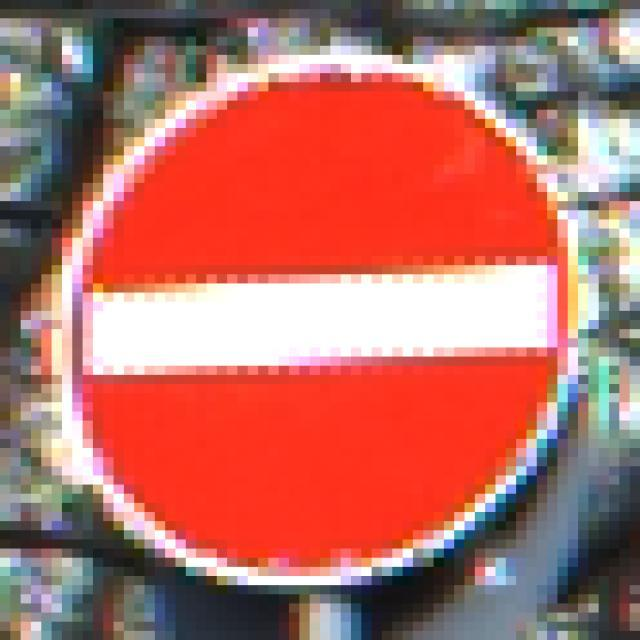no entry: (37, 25, 606, 625)
